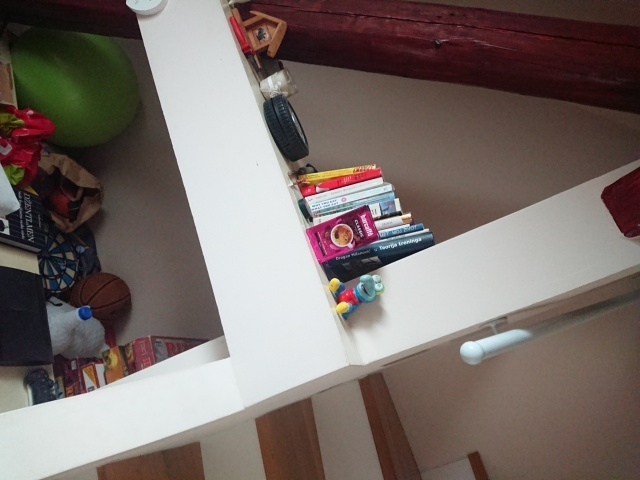Barcaffe Classic Original 225g: (303, 203, 382, 266)
